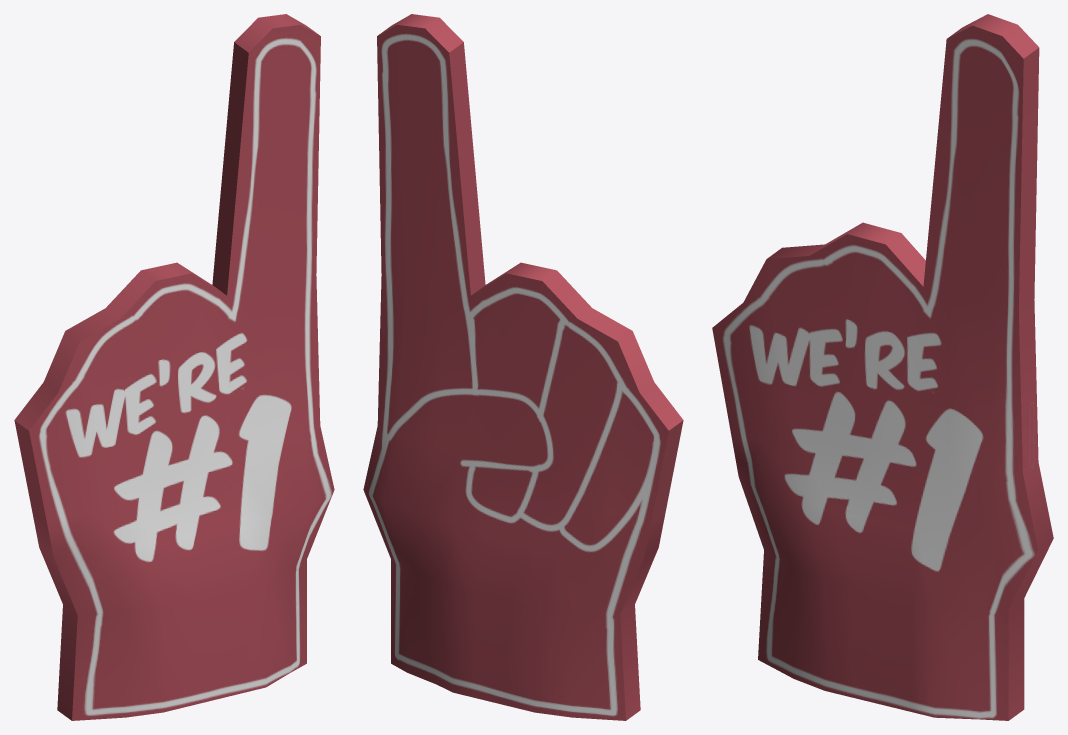
Rendered from foamHand.fbx.
3 renders of one model, left to right at view 1: azimuth 30°, elevation 25°; view 2: azimuth 150°, elevation 25°; view 3: azimuth 330°, elevation 25°, orthographic. The views are drawn at different scales.
Parts seen in each view (by area): view 1: foamHand1; view 2: foamHand1; view 3: foamHand1.
Boxes of the visible parts, box(x1,y1,x2,y2) form: foamHand1: box(14, 14, 334, 720); foamHand1: box(363, 14, 683, 720); foamHand1: box(712, 14, 1053, 720).
Size of the model in its own units: 2.78 by 5.59 by 0.6775.
1 material, 1 textured.
